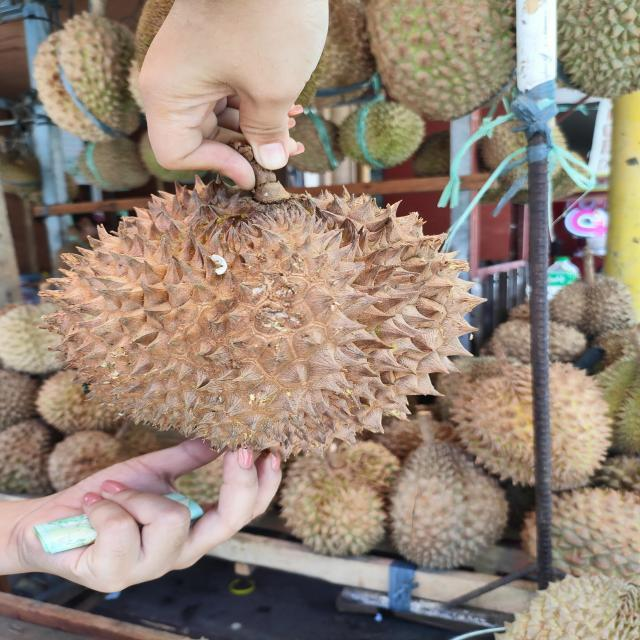mature: (35, 179, 491, 457)
